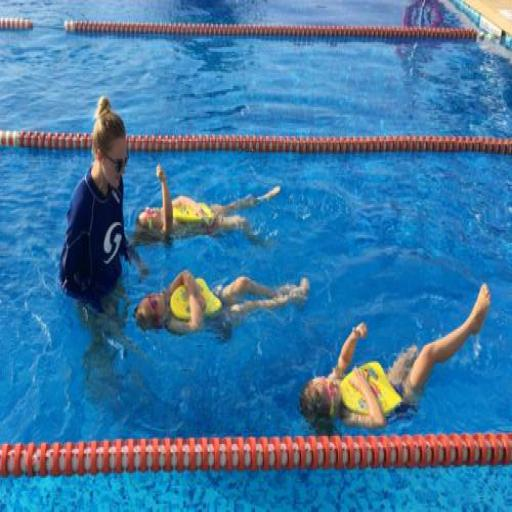swimming: (297, 280, 493, 436), (132, 268, 311, 344), (132, 160, 282, 250)
